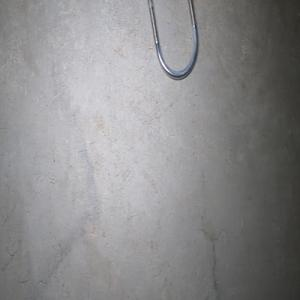ClampPart: (146, 0, 198, 81)
